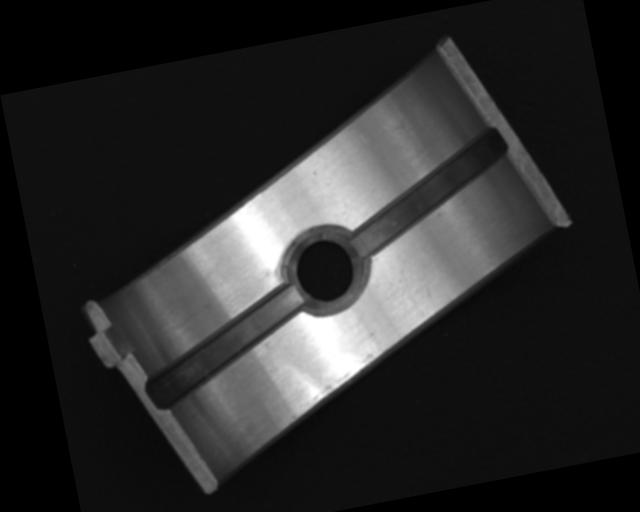gap: (337, 125, 522, 261), (134, 282, 317, 412)
hole: (281, 218, 370, 322)
